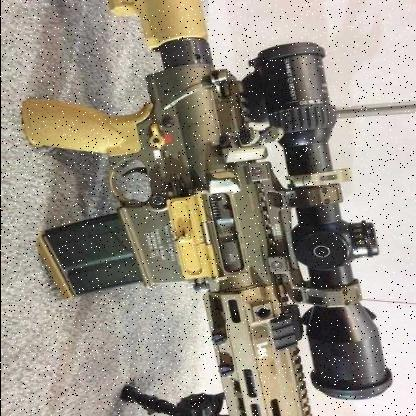rifle: (6, 0, 401, 410)
